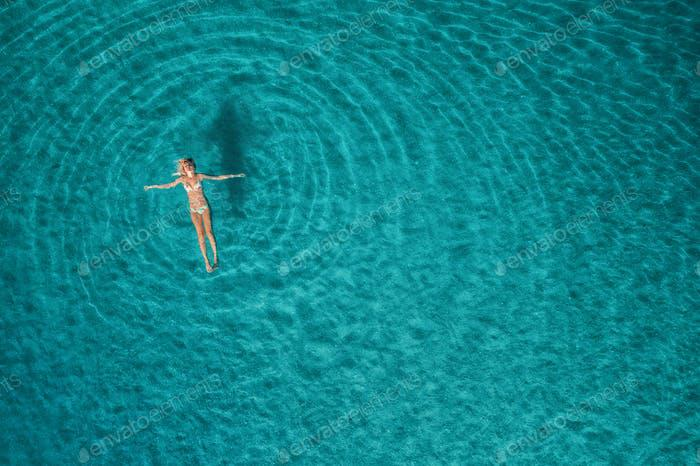swimmer: (142, 156, 246, 274)
